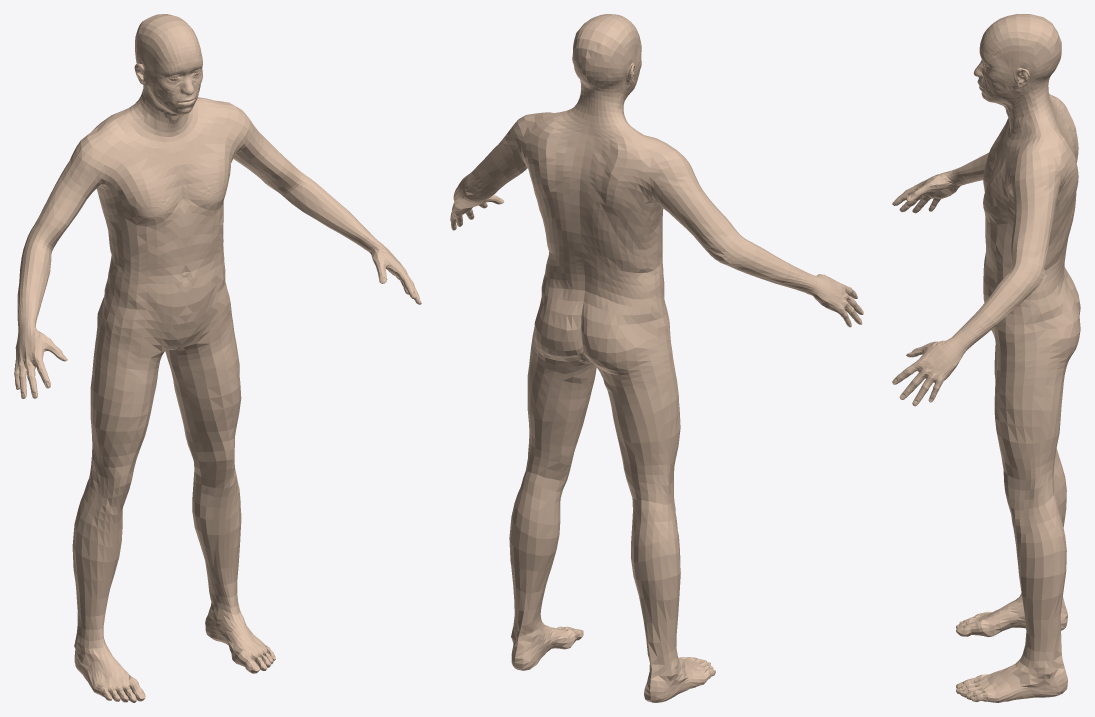
Rendered from male-mature-average-medium.glb.
The picture shows the model from 3 angles, left to right: view 1: azimuth 30°, elevation 25°; view 2: azimuth 150°, elevation 25°; view 3: azimuth 270°, elevation 25°; orthographic projection.
Visible parts, largest first — view 1: world; view 2: world; view 3: world.
Part boxes in pixels (x1,y1,x2,y2): world: (14,14,421,702); world: (450,14,863,702); world: (892,14,1080,702).
Bounding box in the file's own units: 1.25 × 1.94 × 0.5121.
